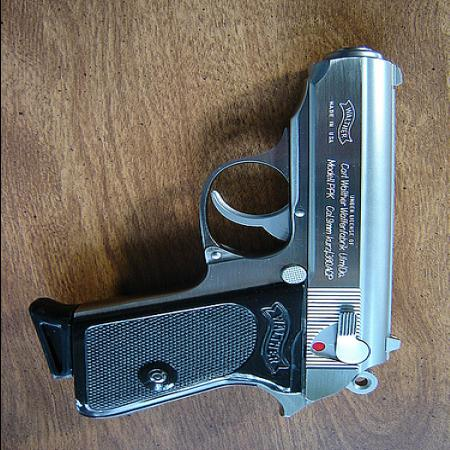Pistol: (28, 45, 406, 419)
